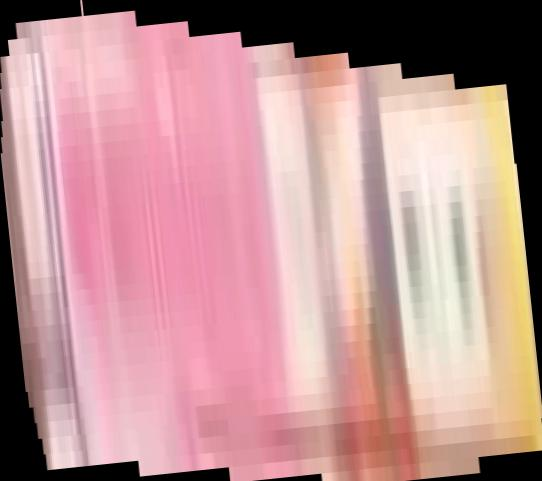flat: (1, 1, 542, 481)
